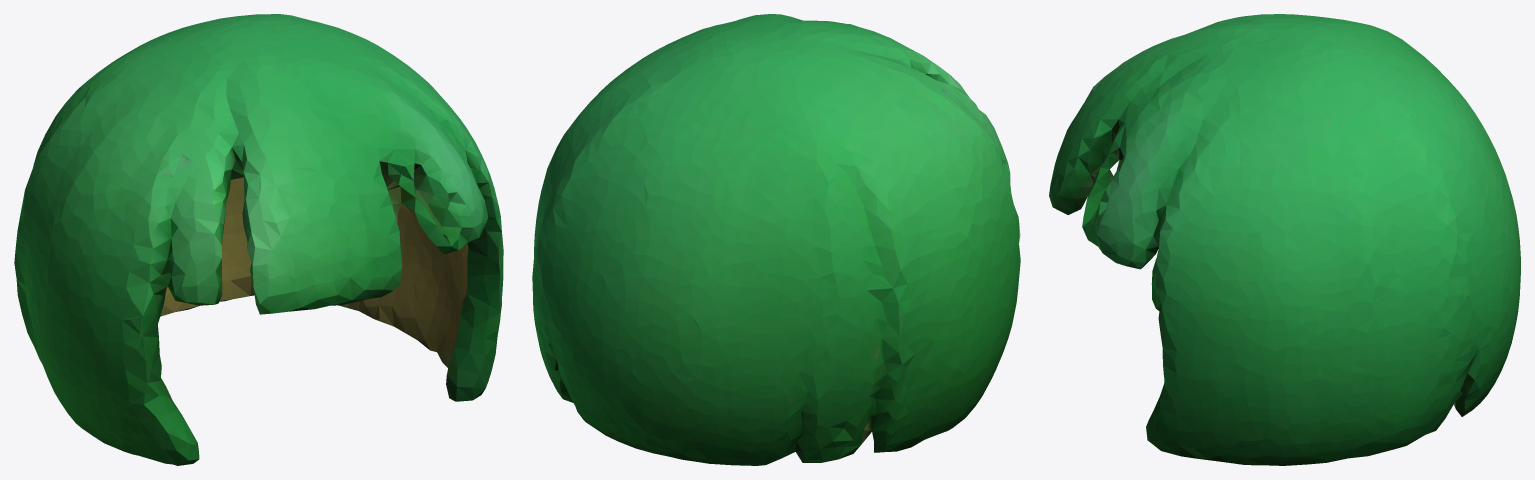
Rendered from hairstyle_037.glb.
3 renders of one model, left to right at view 1: azimuth 30°, elevation 25°; view 2: azimuth 150°, elevation 25°; view 3: azimuth 270°, elevation 25°, orthographic. The views are drawn at different scales.
Parts seen in each view (by area): view 1: geometry_0_037; view 2: geometry_0_037; view 3: geometry_0_037.
Boxes of the visible parts, bbox=[...] form: geometry_0_037: bbox=[14, 14, 503, 465]; geometry_0_037: bbox=[532, 14, 1020, 465]; geometry_0_037: bbox=[1049, 14, 1520, 465].
Bounding box in the file's own units: 1.41 × 1.13 × 1.41.
Materials: 1 (1 with a texture image).
